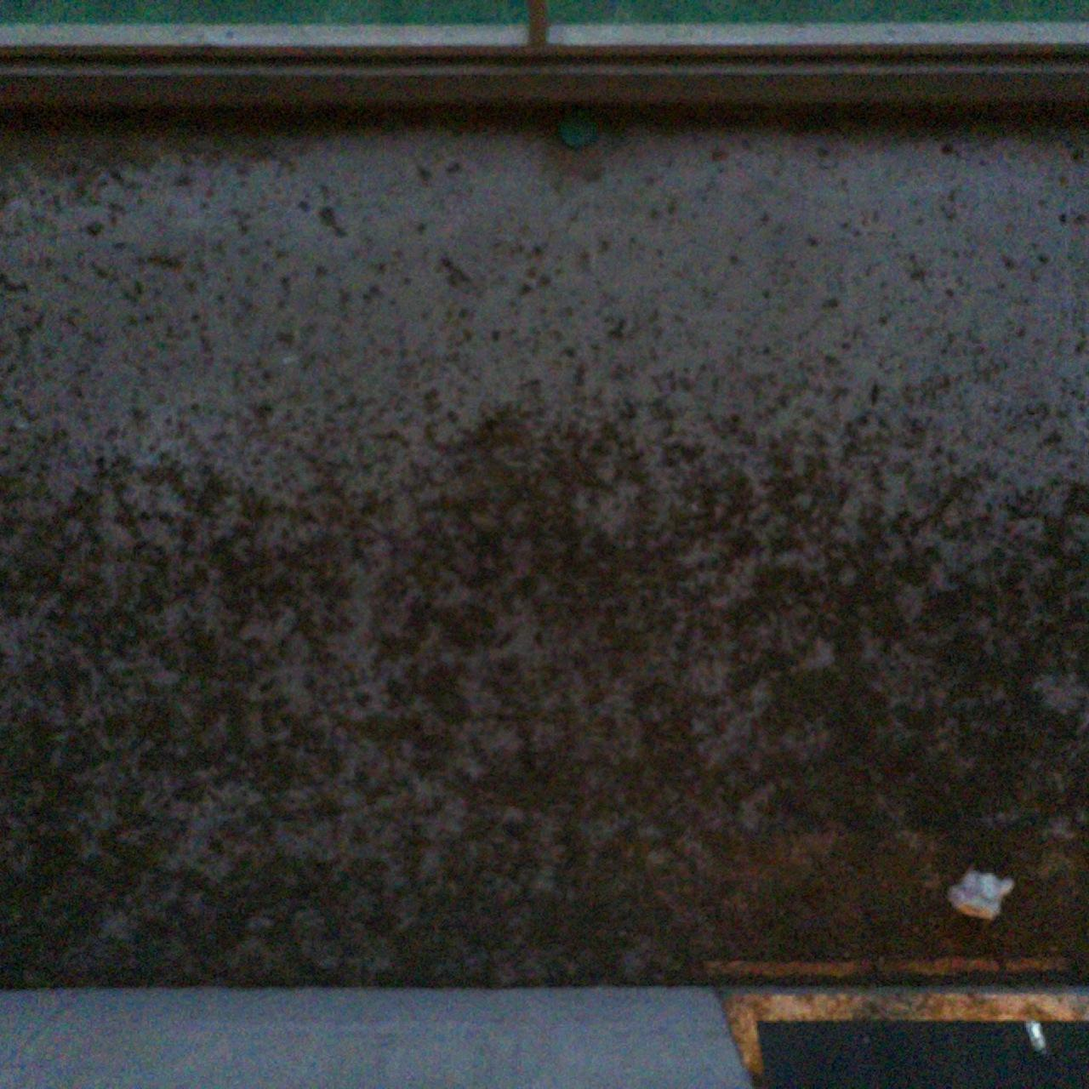chicken: (942, 860, 1019, 932)
